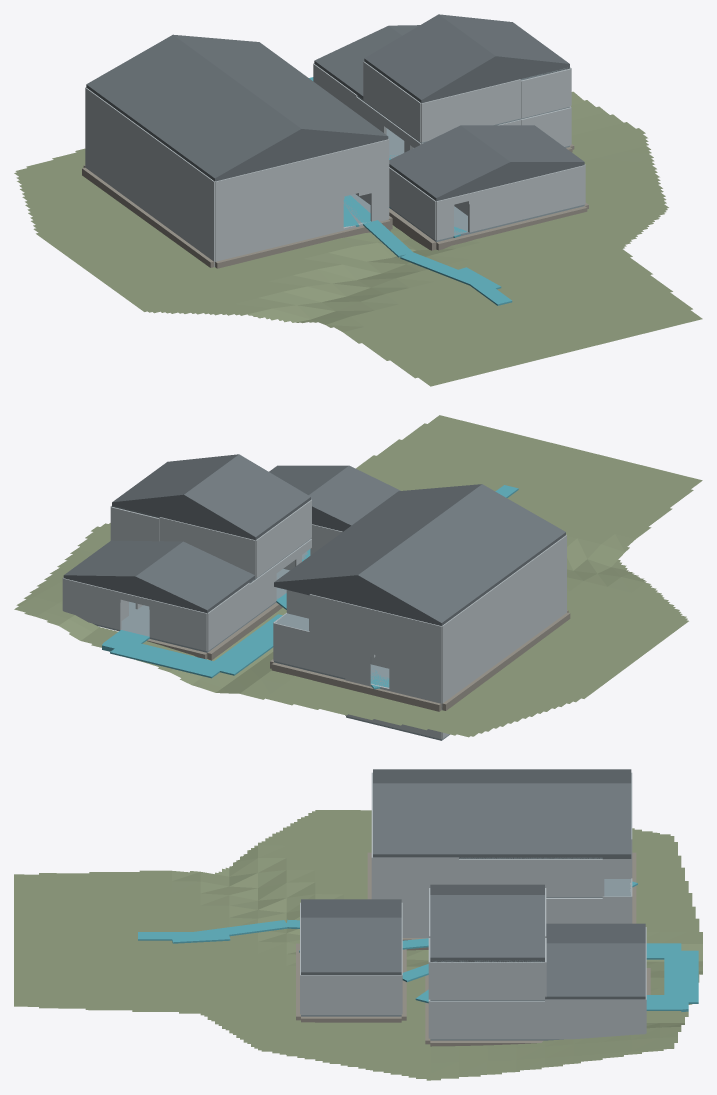
Rendered from authored-bays.glb.
3 views of the same model, one above another, from view 1: azimuth 30°, elevation 25°; view 2: azimuth 150°, elevation 25°; view 3: azimuth 270°, elevation 25° (orthographic). The views are drawn at different scales.
Parts seen in each view (by area): view 1: Saved editor circulation terrain FARMHOUSE, house roof west, house roof east, barn-loft roof west, workshop roof west, Wall parents S, Wall parlour S, Wall hayloft S, workshop roof east, barn-loft roof east, house gable south, Wall repair S (+25 smaller); view 2: Saved editor circulation terrain FARMHOUSE, house roof west, house roof east, barn-loft roof west, barn-stalls roof west, Wall linen N, workshop roof west, barn-stalls roof east, Wall cleaner N, barn-loft roof east, Wall hayloft N, house gable north (+25 smaller); view 3: Saved editor circulation terrain FARMHOUSE, house roof east, barn-loft roof east, workshop roof east, barn-stalls roof east, FARMHOUSE bay wall ('x', 26, 12, 22, 3, 6) end region0, FARMHOUSE bay wall ('x', 43, 16, 24, 0, 3) end region0, FARMHOUSE bay wall ('x', 43, 16, 24, 3, 6) end region0, Wall equipment E, house roof west, Wall parts E, barn-stalls roof west (+14 smaller).
Part boxes in pixels (box(x1,y1,x2,y2)): Saved editor circulation terrain FARMHOUSE: box(14, 91, 702, 386); house roof west: box(86, 35, 301, 180); house roof east: box(173, 34, 388, 138); barn-loft roof west: box(364, 14, 495, 102); workshop roof west: box(389, 125, 510, 200); Wall parents S: box(215, 157, 314, 220); Wall parlour S: box(215, 197, 314, 259); Wall hayloft S: box(421, 79, 520, 142); workshop roof east: box(461, 125, 584, 164); barn-loft roof east: box(439, 14, 569, 66); house gable south: box(213, 131, 386, 181); Wall repair S: box(486, 174, 548, 228); Saved editor circulation terrain FARMHOUSE: box(14, 415, 702, 737); house roof west: box(358, 484, 565, 625); house roof east: box(274, 484, 481, 584); barn-loft roof west: box(184, 454, 310, 539); barn-stalls roof west: box(135, 541, 255, 612); Wall linen N: box(345, 603, 441, 663); workshop roof west: box(308, 465, 400, 526); barn-stalls roof east: box(63, 540, 182, 579); Wall cleaner N: box(273, 623, 345, 677); barn-loft roof east: box(112, 454, 238, 504); Wall hayloft N: box(159, 517, 255, 577); house gable north: box(274, 577, 442, 625); Saved editor circulation terrain FARMHOUSE: box(14, 810, 702, 1080); house roof east: box(373, 783, 631, 857); barn-loft roof east: box(430, 895, 544, 960); workshop roof east: box(301, 917, 401, 974); barn-stalls roof east: box(545, 943, 645, 999); FARMHOUSE bay wall ('x', 26, 12, 22, 3, 6) end region0: box(459, 859, 602, 897); FARMHOUSE bay wall ('x', 43, 16, 24, 0, 3) end region0: box(430, 1001, 544, 1039); FARMHOUSE bay wall ('x', 43, 16, 24, 3, 6) end region0: box(430, 962, 544, 1000); Wall equipment E: box(545, 999, 645, 1039); house roof west: box(373, 769, 631, 783); Wall parts E: box(344, 975, 401, 1014); barn-stalls roof west: box(546, 923, 645, 943).
Size of the model in its own units: 45 by 11.86 by 48.
